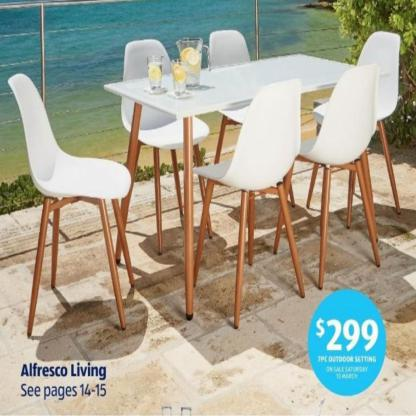table: (95, 47, 398, 326)
